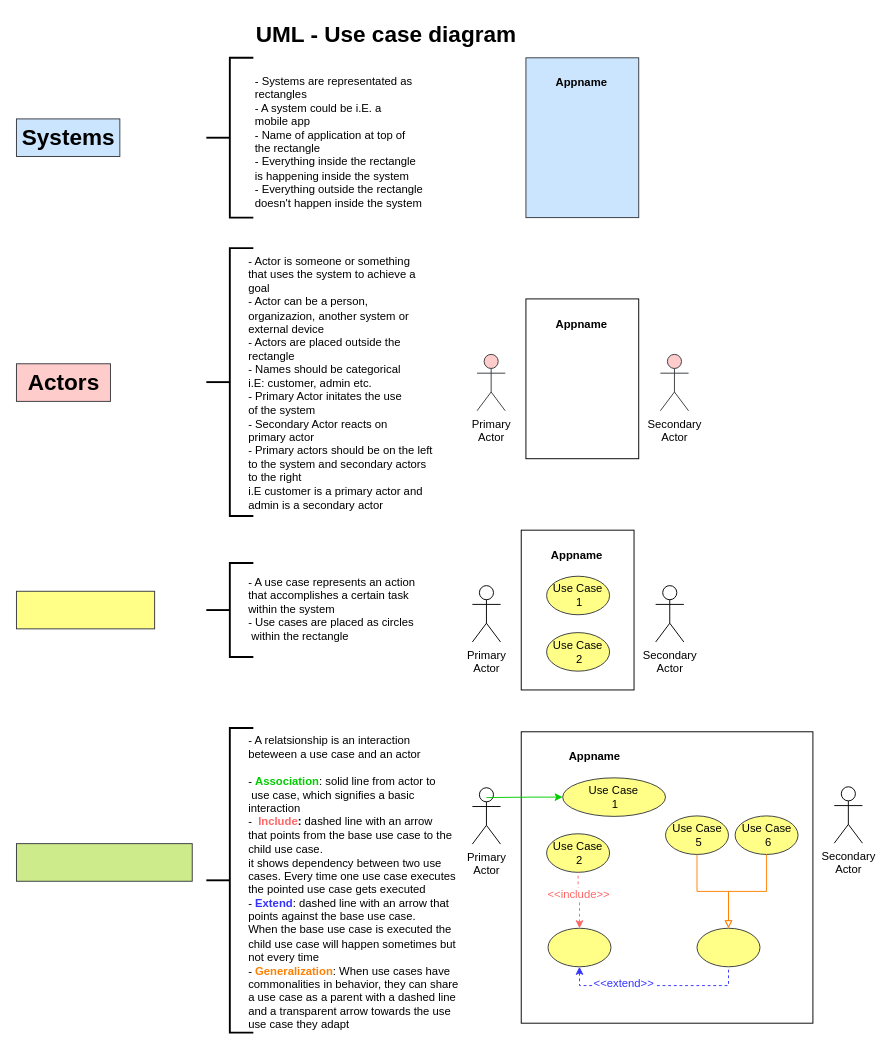
The diagram is 891 pixels wide and 1049 high, and some of its shapes have lost their labels. Each missing label, with the centre of its shape:
"Relationships" goes at (x=104, y=862).
"Use Case 3" goes at (x=579, y=947).
"Use Case 4" goes at (x=728, y=947).
"Use Cases" goes at (x=85, y=609).
